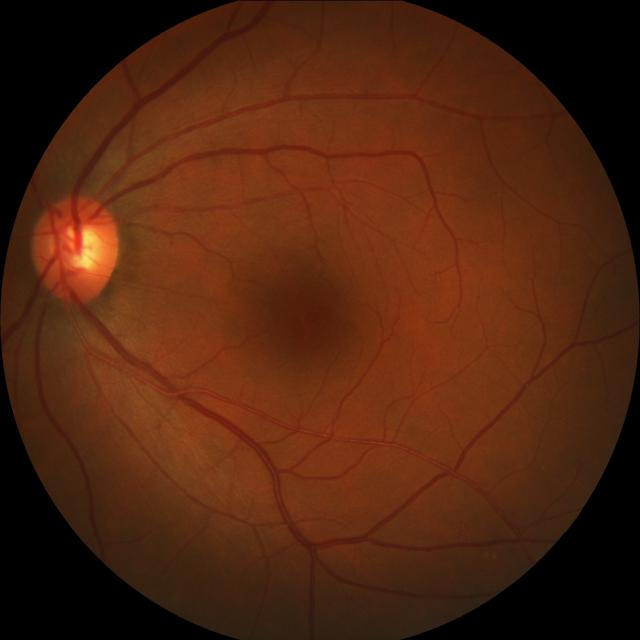OC: (59, 224, 99, 269)
OD: (30, 193, 117, 302)
